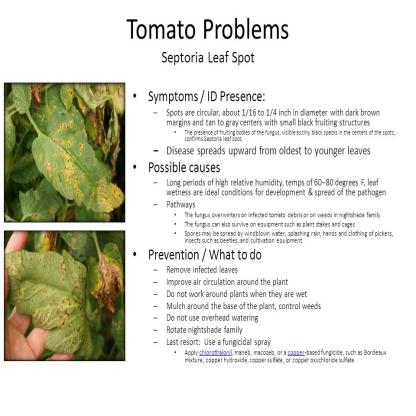tomato septoria leaf spot: (30, 107, 124, 214), (6, 249, 89, 354), (82, 237, 123, 319)
